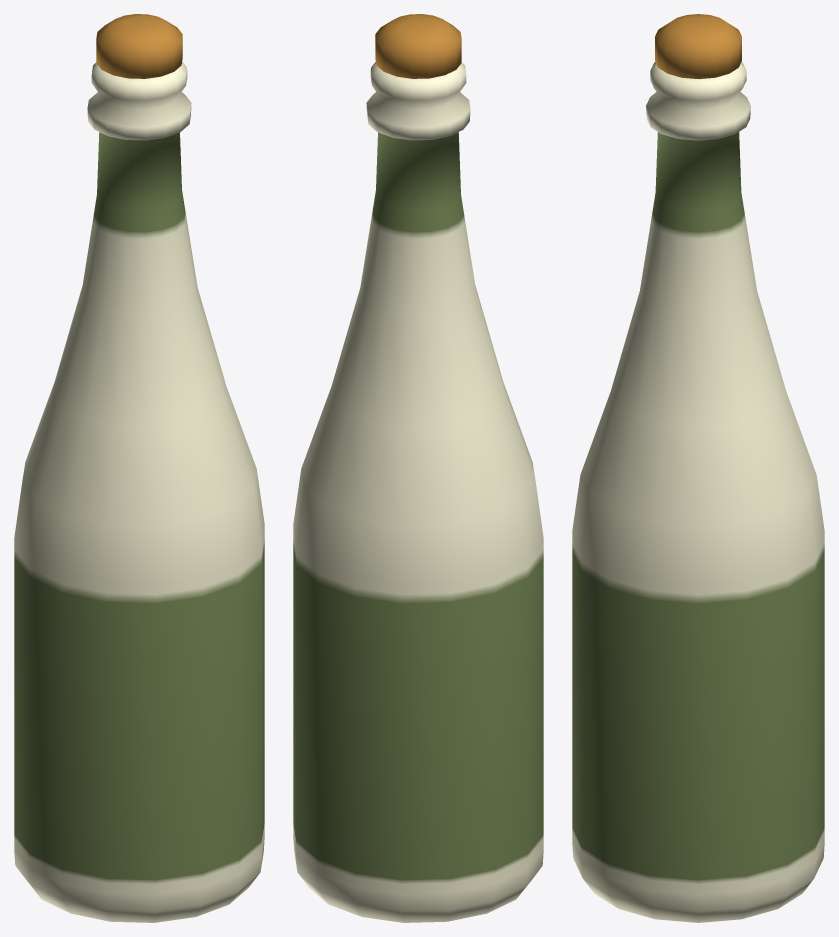
Rendered from bottle-champagne.fbx.
The picture shows the model from 3 angles, left to right: view 1: azimuth 30°, elevation 25°; view 2: azimuth 150°, elevation 25°; view 3: azimuth 270°, elevation 25°; orthographic projection.
Parts seen in each view (by area): view 1: bottle_champagne, bottle_champagne_cork; view 2: bottle_champagne, bottle_champagne_cork; view 3: bottle_champagne, bottle_champagne_cork.
Part boxes in pixels (x1,y1,x2,y2): bottle_champagne: (14, 62, 264, 922); bottle_champagne_cork: (96, 14, 182, 78); bottle_champagne: (293, 62, 543, 922); bottle_champagne_cork: (375, 14, 461, 78); bottle_champagne: (572, 62, 824, 922); bottle_champagne_cork: (655, 14, 741, 78).
Bounding box in the file's own units: 0.0889 × 0.3309 × 0.0889.
